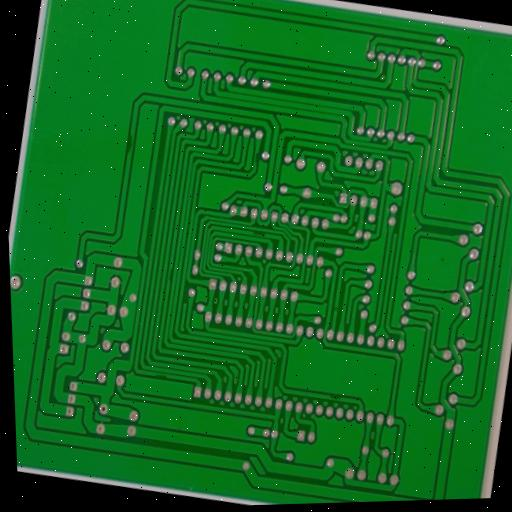mouse_bite: (124, 129, 137, 156), (327, 391, 343, 403), (165, 265, 175, 284), (249, 229, 268, 238), (153, 370, 169, 380), (251, 149, 260, 166)
